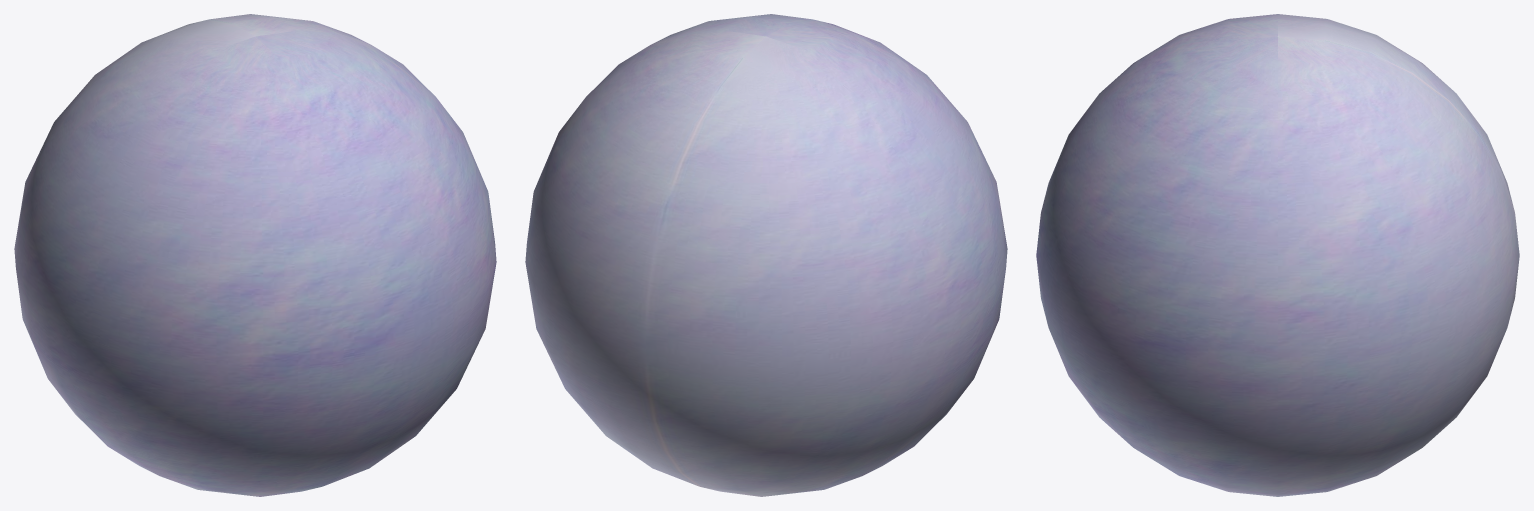
The picture shows the model from 3 angles, left to right: view 1: azimuth 30°, elevation 25°; view 2: azimuth 150°, elevation 25°; view 3: azimuth 270°, elevation 25°; orthographic projection.
Parts seen in each view (by area): view 1: Sphere; view 2: Sphere; view 3: Sphere.
Boxes of the visible parts, left/top/right/bottom form: Sphere: left=14, top=14, right=496, bottom=496; Sphere: left=525, top=14, right=1007, bottom=496; Sphere: left=1036, top=14, right=1519, bottom=496.
Size of the model in its own units: 6.85 by 6.85 by 6.85.
Materials: 1 (1 with a texture image).
